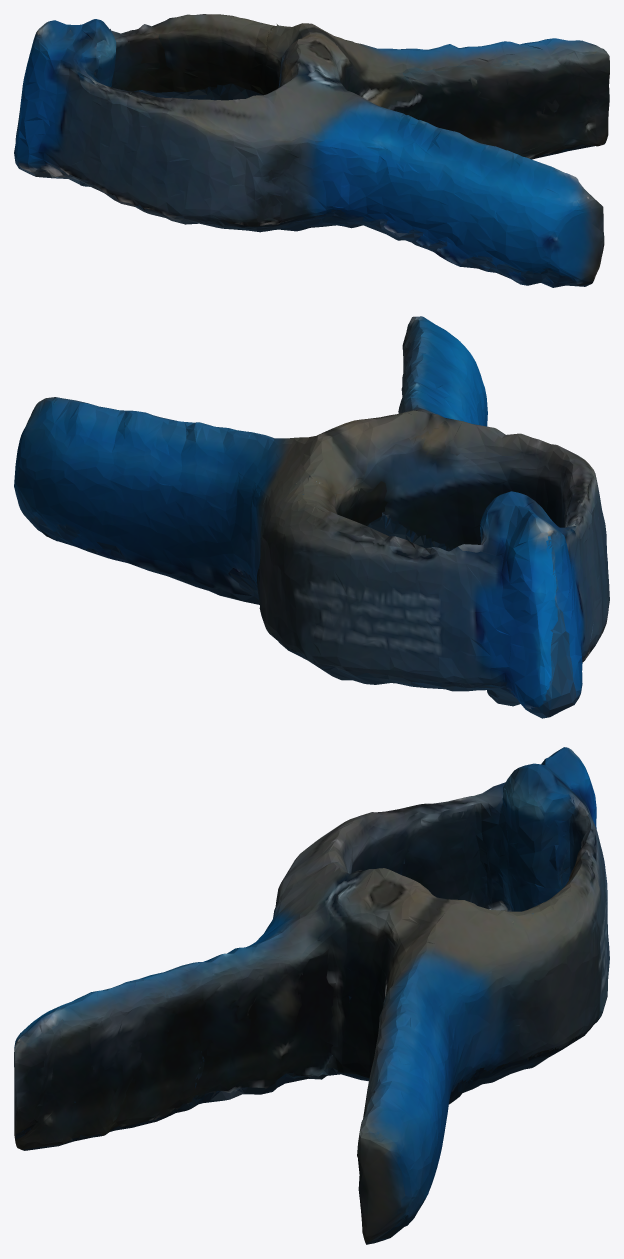
The model's file is model_New Qlone.obj.
3 renders of one model, top to bottom at view 1: azimuth 30°, elevation 25°; view 2: azimuth 150°, elevation 25°; view 3: azimuth 270°, elevation 25°, orthographic. The views are drawn at different scales.
Size of the model in its own units: 121 by 41.22 by 100.
Materials: 1 (1 with a texture image).
